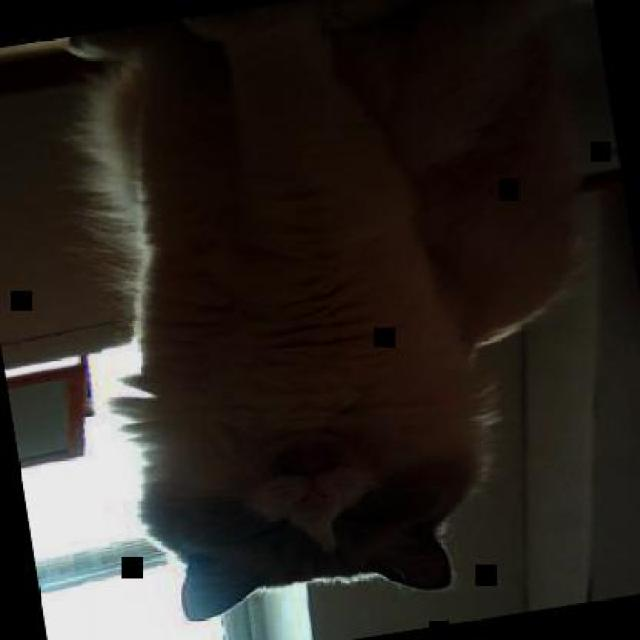cat: (47, 0, 640, 638)
